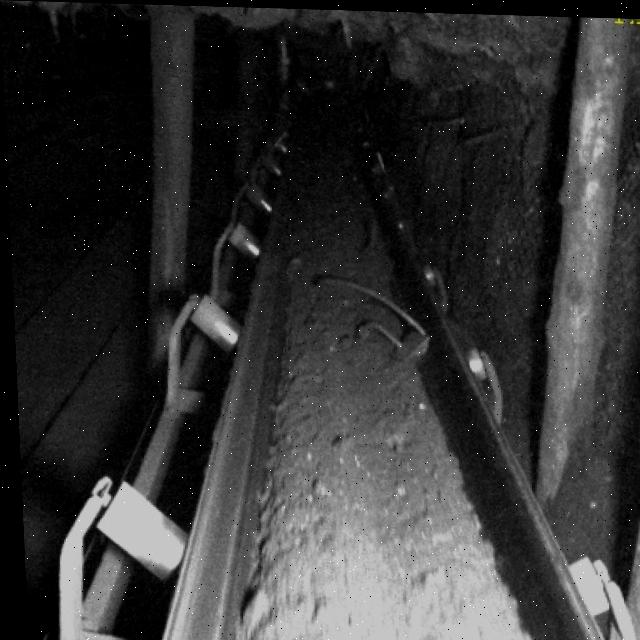bolt: (314, 272, 428, 365)
